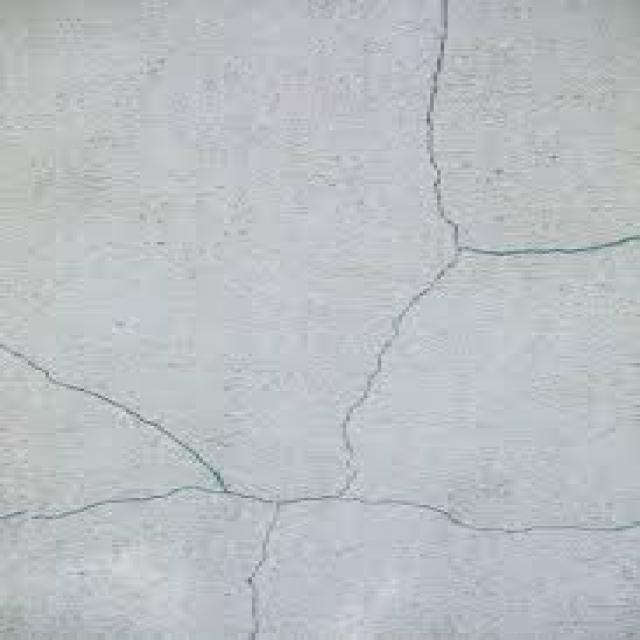crack: (338, 1, 639, 534), (0, 348, 227, 494)
